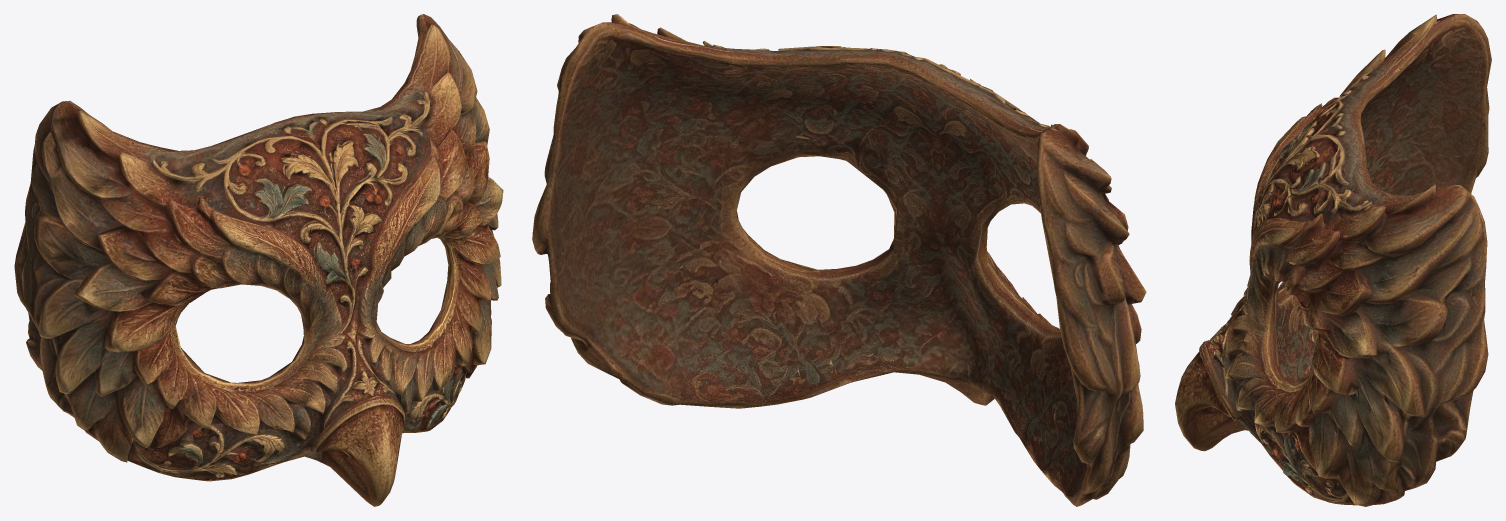
The picture shows the model from 3 angles, left to right: view 1: azimuth 30°, elevation 25°; view 2: azimuth 150°, elevation 25°; view 3: azimuth 270°, elevation 25°; orthographic projection. The views are drawn at different scales.
Size of the model in its own units: 1.9 by 1.41 by 1.15.
1 material, 1 textured.
